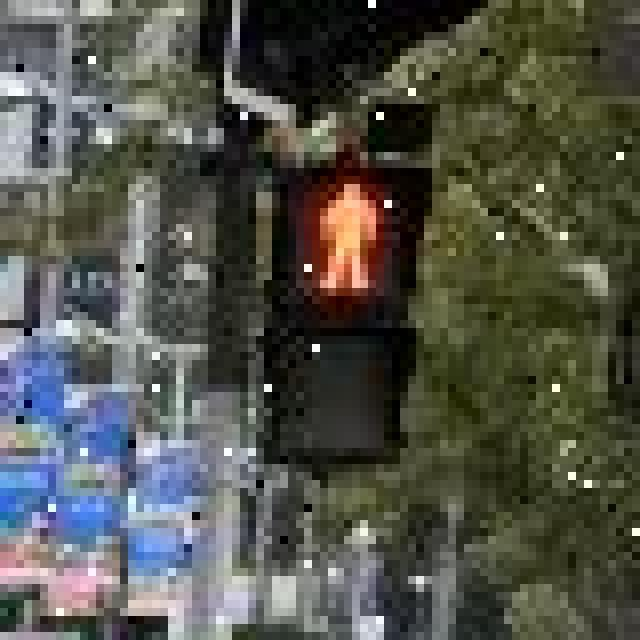redlight: (256, 144, 432, 472)
